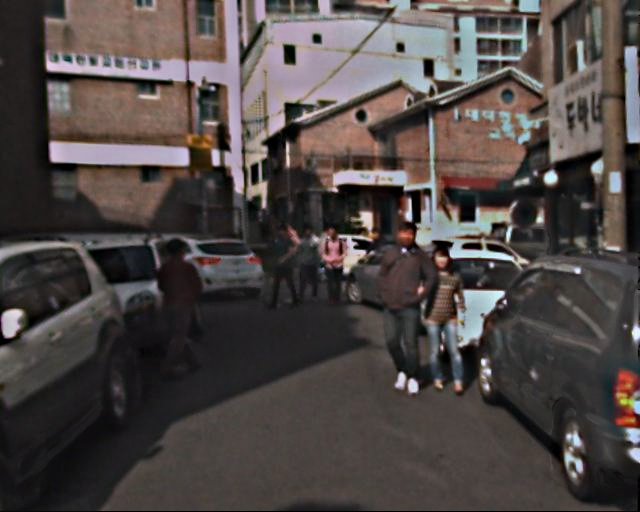person: (372, 222, 443, 395), (412, 247, 473, 395), (148, 238, 207, 381), (265, 226, 299, 309), (316, 223, 350, 306), (293, 224, 324, 299), (364, 228, 387, 285)
